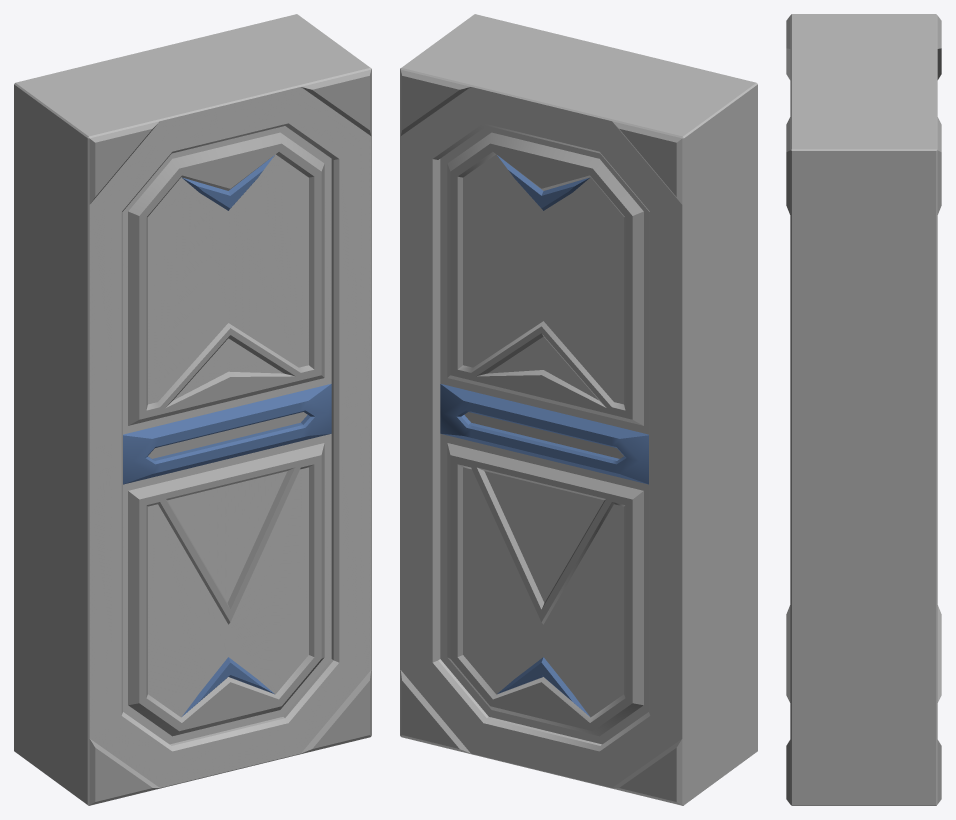
The model's file is SM_Door_EarthRuin.fbx.
3 renders of one model, left to right at view 1: azimuth 30°, elevation 25°; view 2: azimuth 150°, elevation 25°; view 3: azimuth 270°, elevation 25°, orthographic.
Visible parts, largest first — view 1: SM_Door_EarthRuin; view 2: SM_Door_EarthRuin; view 3: SM_Door_EarthRuin.
Boxes of the visible parts, x1,y1,x2,y2 form: SM_Door_EarthRuin: [14, 14, 371, 805]; SM_Door_EarthRuin: [400, 14, 757, 805]; SM_Door_EarthRuin: [786, 14, 941, 805].
Size of the model in its own units: 400 by 900 by 193.
